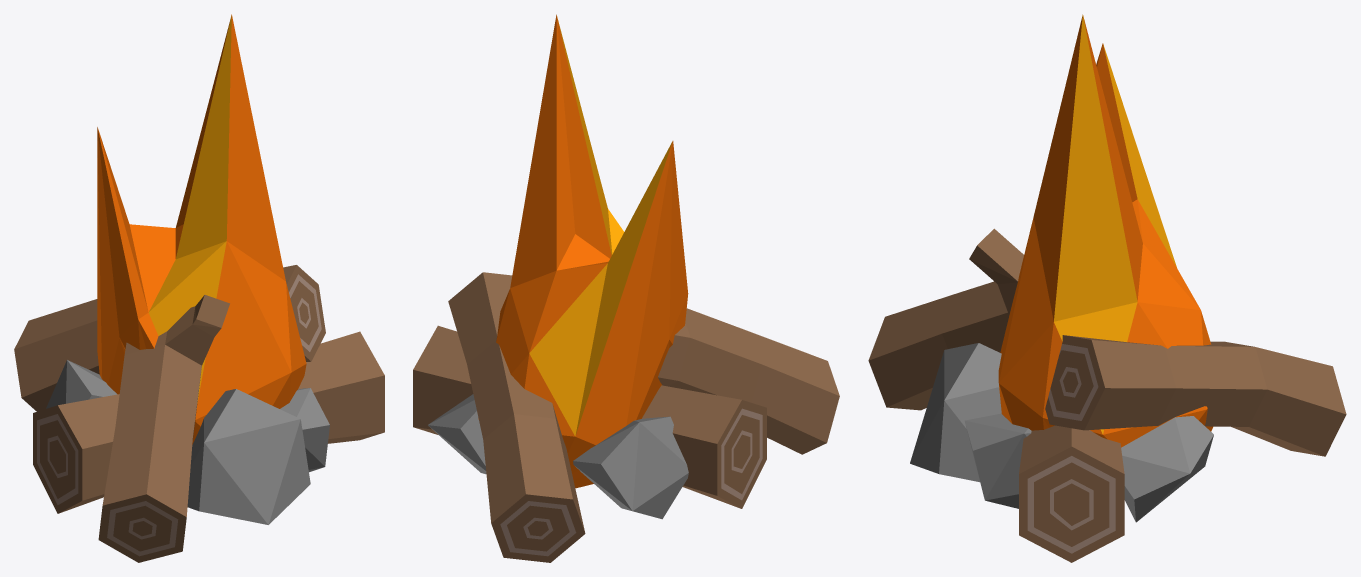
Rendered from Camp_Fire.glb.
3 renders of one model, left to right at view 1: azimuth 30°, elevation 25°; view 2: azimuth 150°, elevation 25°; view 3: azimuth 270°, elevation 25°, orthographic. The views are drawn at different scales.
Visible parts, largest first — view 1: Campfire; view 2: Campfire; view 3: Campfire.
Boxes of the visible parts, x1=… form: Campfire: x1=14, y1=14, x2=384, y2=562; Campfire: x1=413, y1=14, x2=839, y2=562; Campfire: x1=868, y1=14, x2=1346, y2=562.
Size of the model in its own units: 69.42 by 91.33 by 81.66.
Materials: 1 (1 with a texture image).
